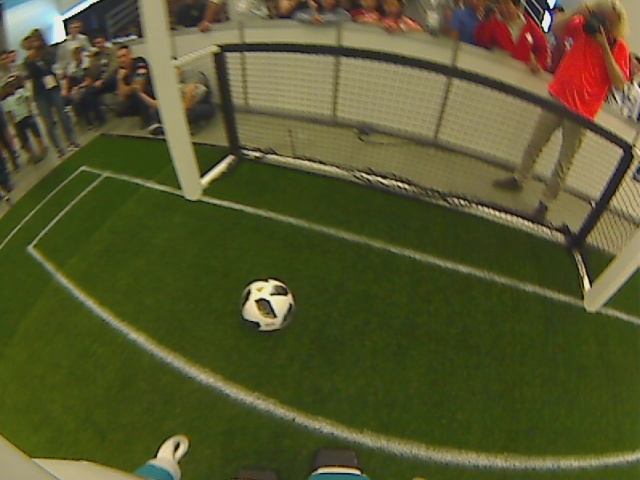ball: (239, 279, 295, 331)
